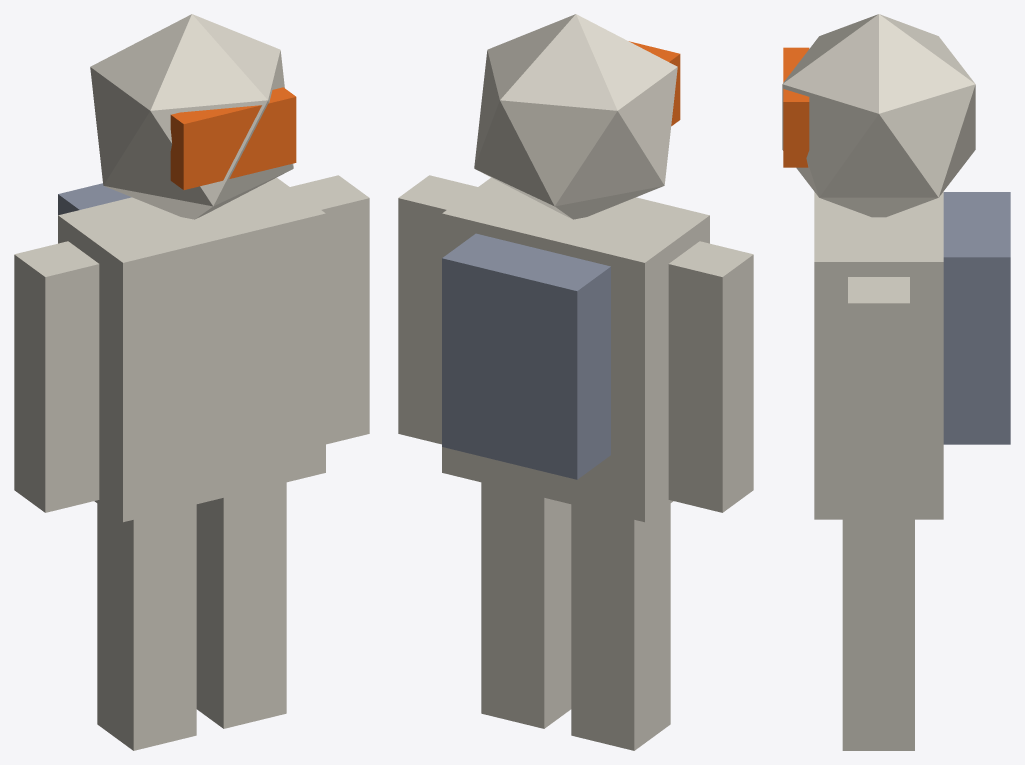
The model's file is colony-astronaut.glb.
3 views of the same model, side by side, from view 1: azimuth 30°, elevation 25°; view 2: azimuth 150°, elevation 25°; view 3: azimuth 270°, elevation 25° (orthographic).
Visible parts, largest first — view 1: astronaut; view 2: astronaut; view 3: astronaut.
Part boxes in pixels (x1,y1,x2,y2): astronaut: (14,14,369,750); astronaut: (398,14,753,750); astronaut: (782,14,1010,750).
Size of the model in its own units: 0.72 by 1.5 by 0.4421.
